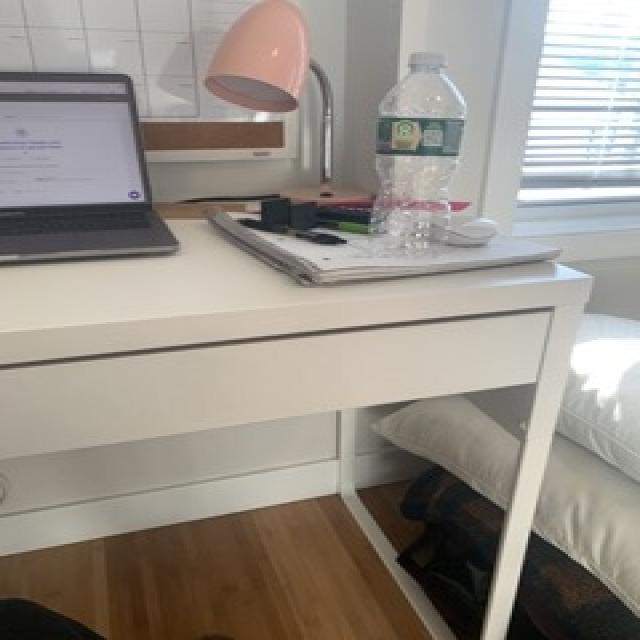water_bottle: (365, 49, 472, 263)
